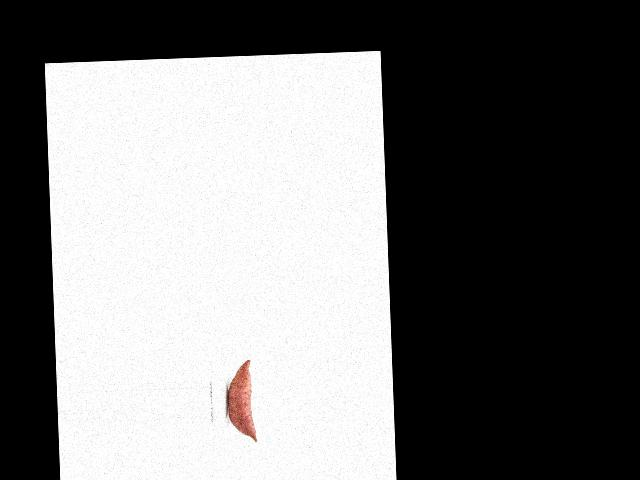sweet_potato: (225, 358, 261, 443)
